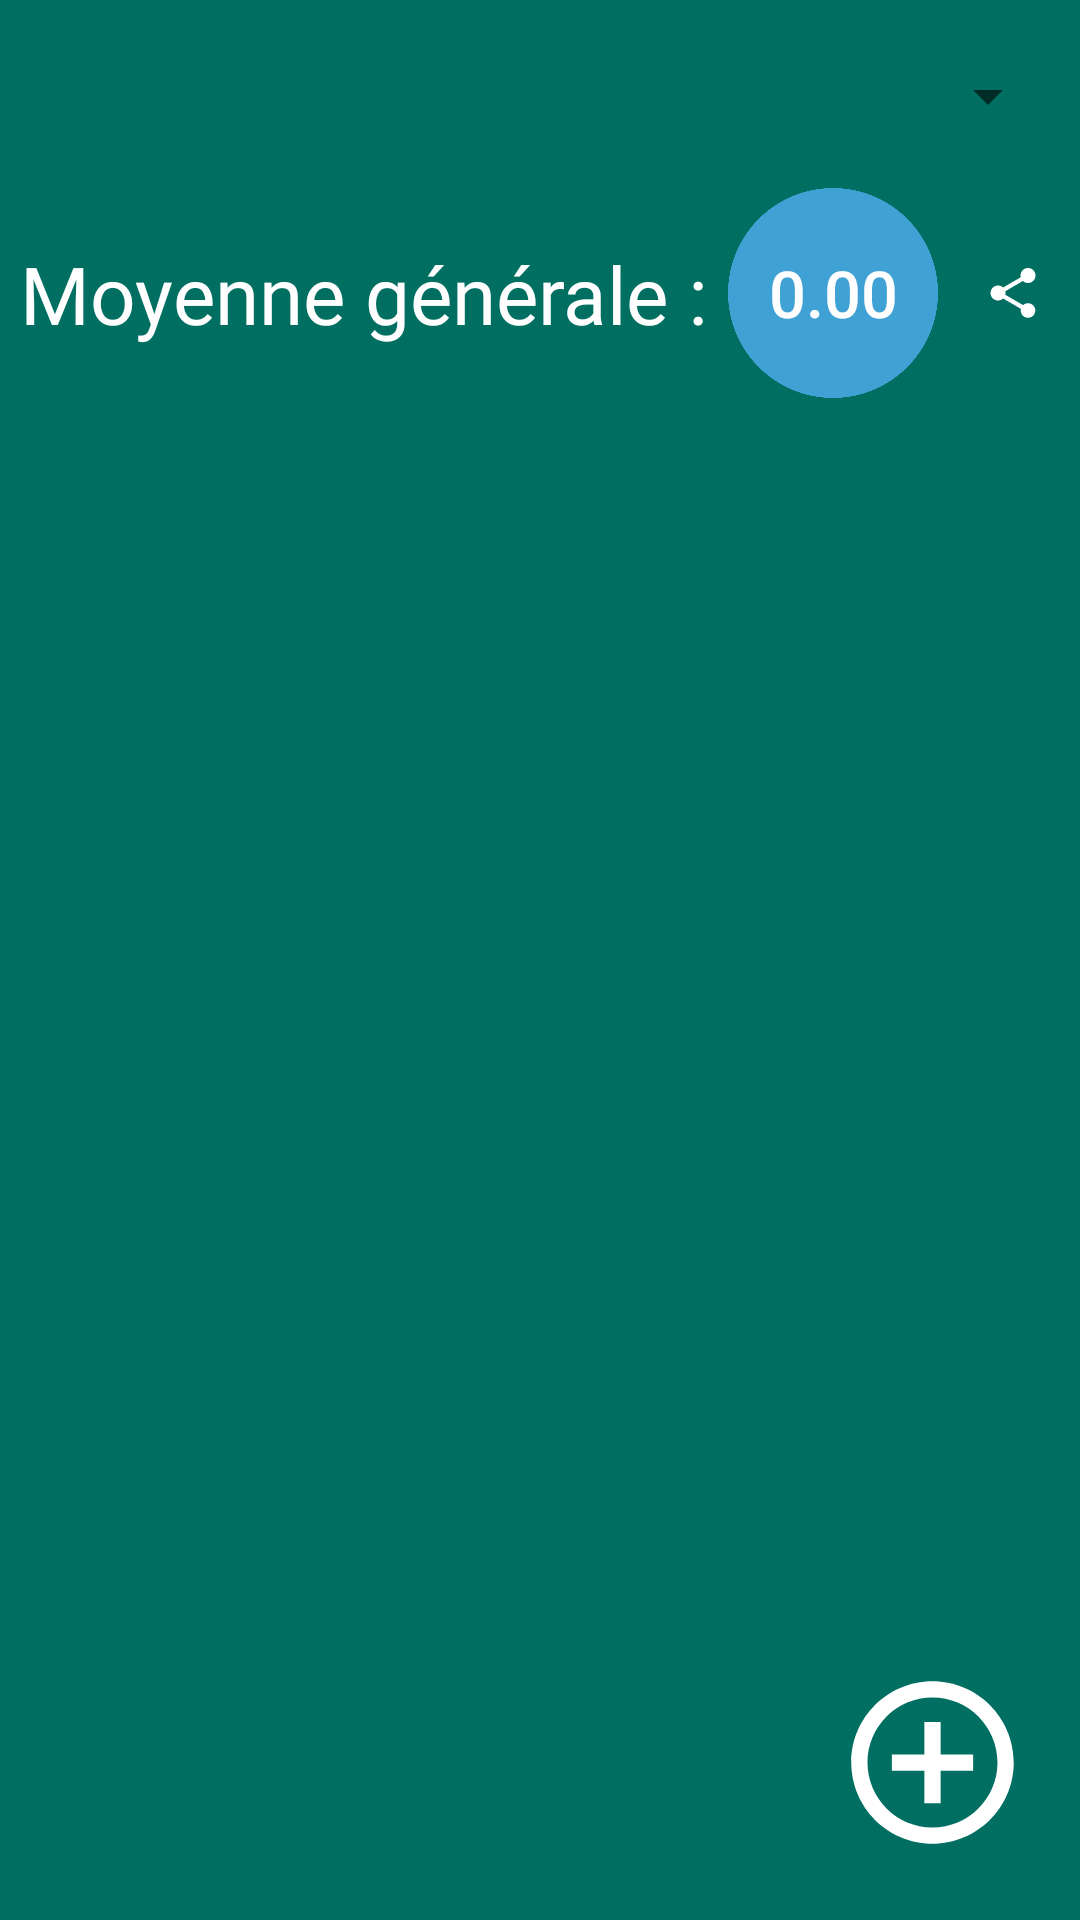

Icons on this 1080px x 1920px Android screen, each with its box as (x1, y1, x2, y2):
add circle: (851, 1681, 1014, 1844)
share: (990, 268, 1036, 318)
